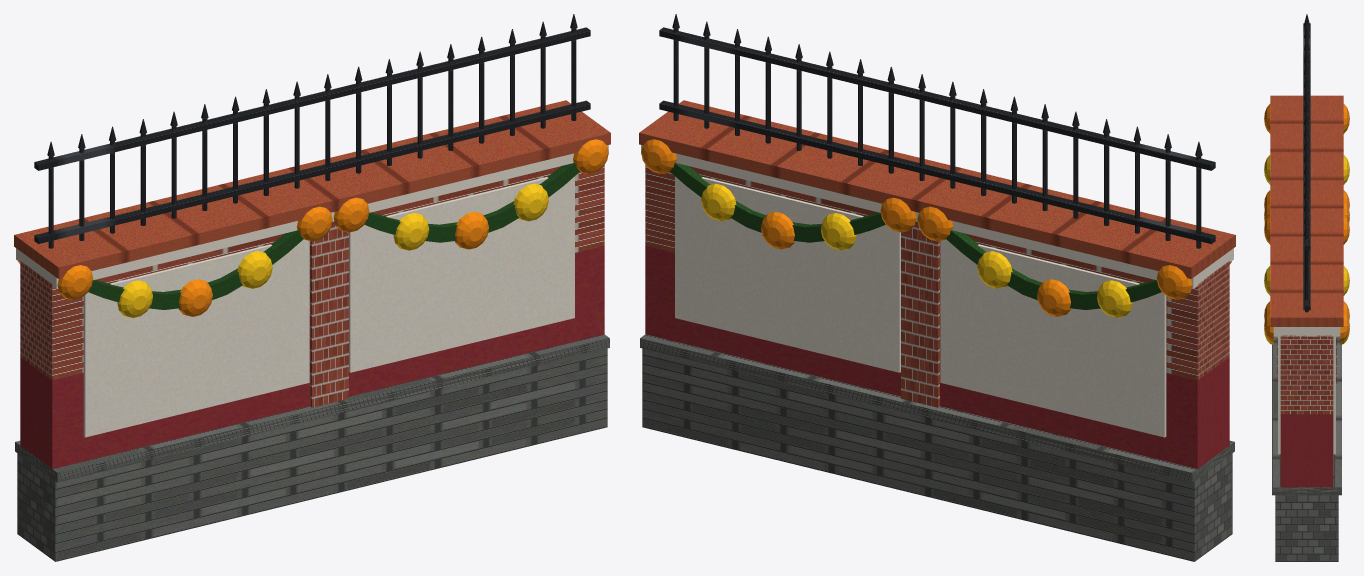
The model's file is muro_panteon_tramo.obj.
The picture shows the model from 3 angles, left to right: view 1: azimuth 30°, elevation 25°; view 2: azimuth 150°, elevation 25°; view 3: azimuth 270°, elevation 25°; orthographic projection. The views are drawn at different scales.
Parts seen in each view (by area): view 1: muro_panteon_tramo; view 2: muro_panteon_tramo; view 3: muro_panteon_tramo.
Part boxes in pixels (<box>): muro_panteon_tramo: <box>14,14,610,561</box>; muro_panteon_tramo: <box>639,14,1235,561</box>; muro_panteon_tramo: <box>1264,14,1349,561</box>.
Bounding box in the file's own units: 3 × 2.09 × 0.49.
Materials: 1 (1 with a texture image).
